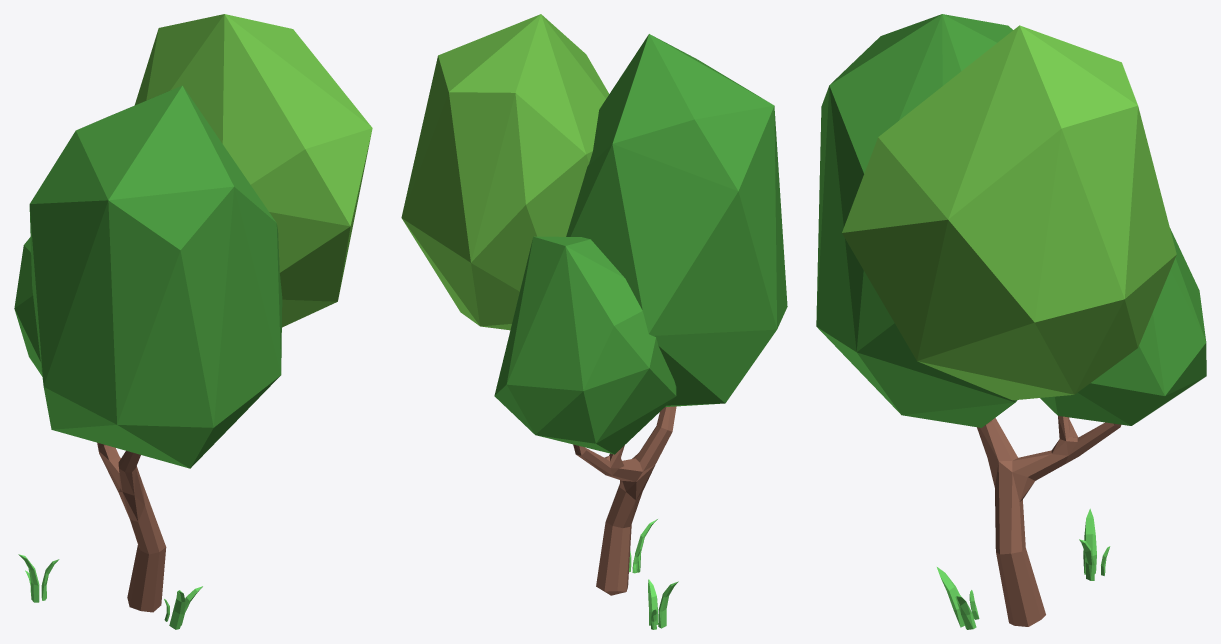
The model's file is arbol1.glb.
3 views of the same model, side by side, from view 1: azimuth 30°, elevation 25°; view 2: azimuth 150°, elevation 25°; view 3: azimuth 270°, elevation 25° (orthographic). The views are drawn at different scales.
Size of the model in its own units: 2.72 by 4.45 by 2.45.
